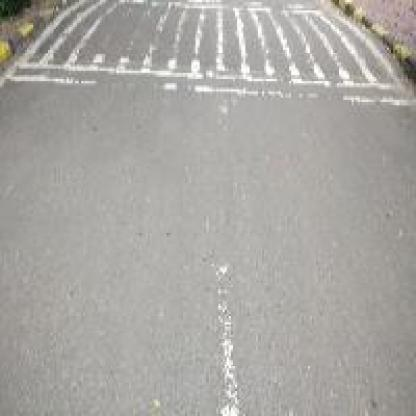Speed Bump: (0, 0, 414, 108)
